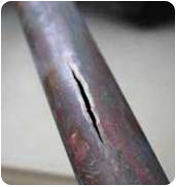crack: (67, 58, 109, 149)
